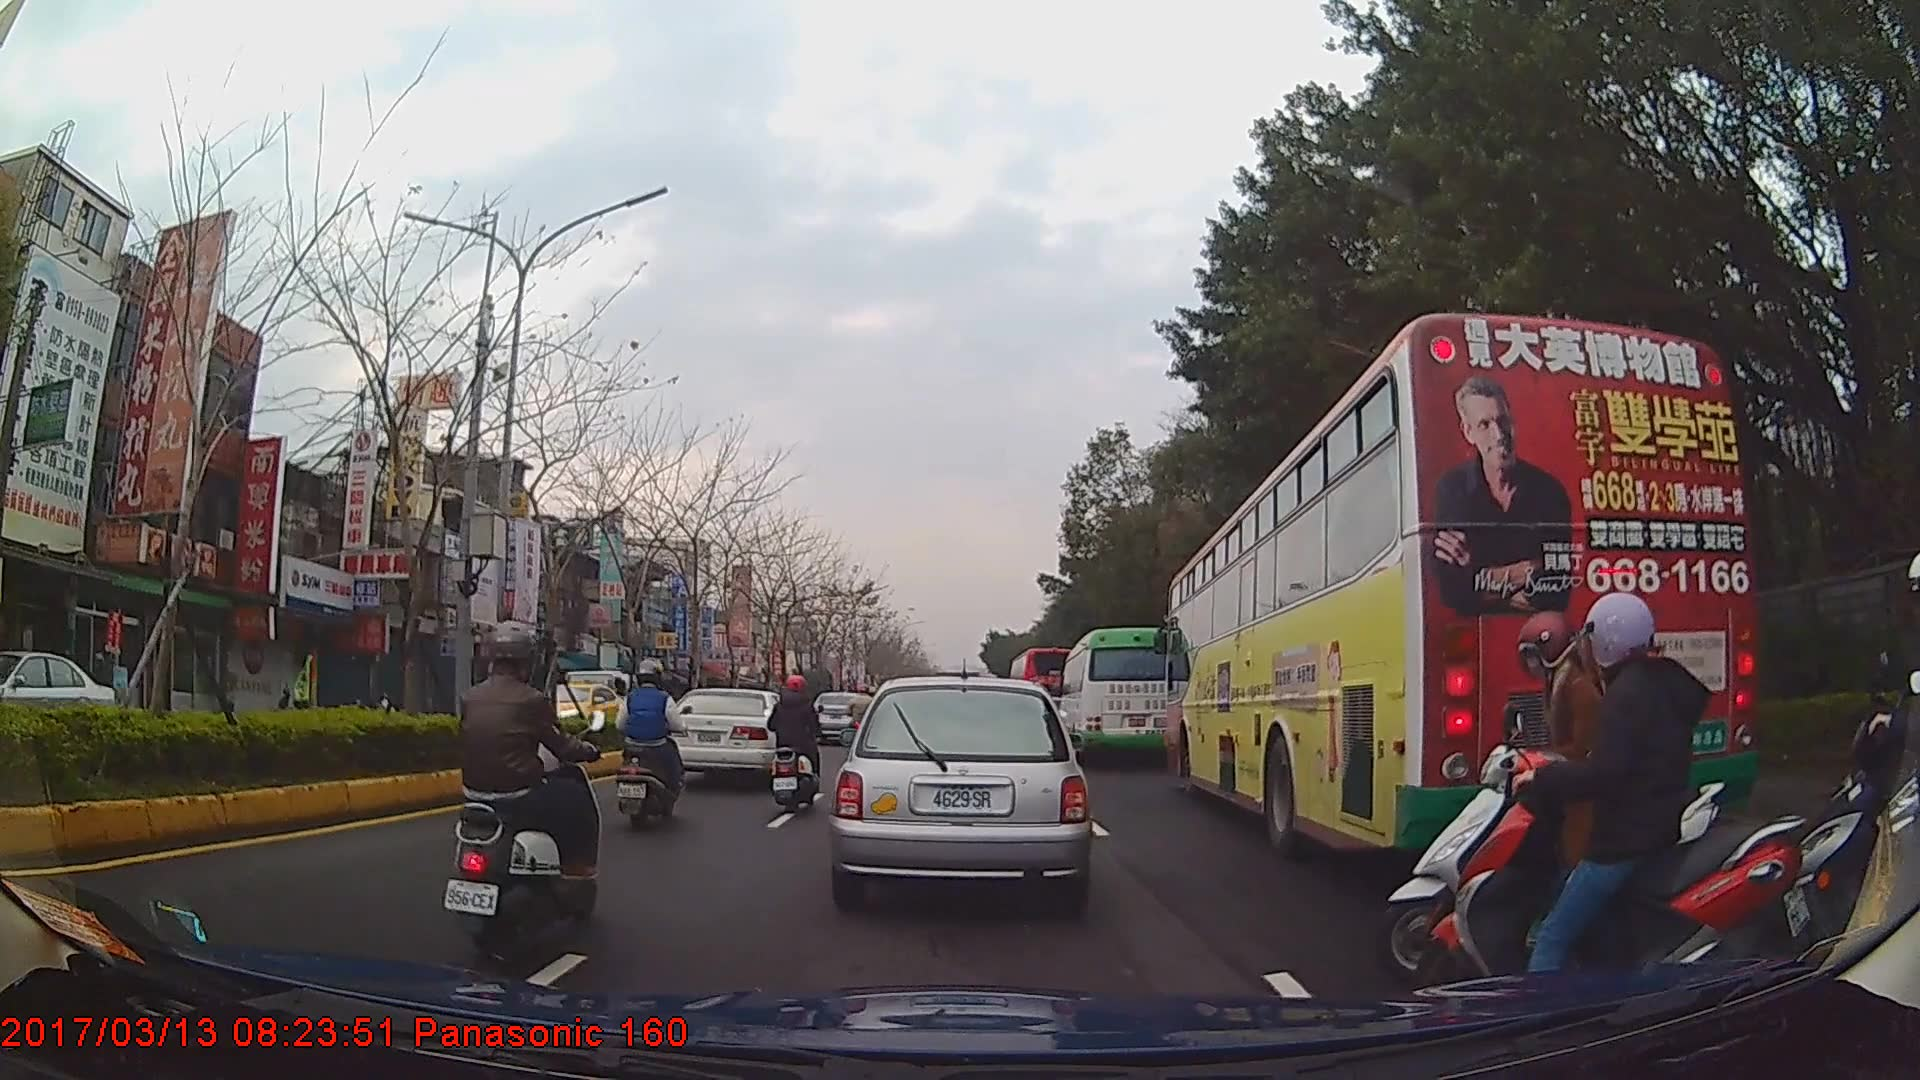rider: (1431, 579, 1823, 1050), (1366, 599, 1722, 989), (1787, 545, 1920, 977), (447, 618, 602, 959), (612, 658, 689, 834), (763, 672, 822, 813), (846, 680, 876, 754)
vehicle: (1165, 310, 1760, 866), (831, 671, 1093, 908), (1054, 626, 1182, 765), (664, 687, 808, 789), (0, 648, 109, 758), (514, 675, 625, 745), (1005, 646, 1088, 731)
